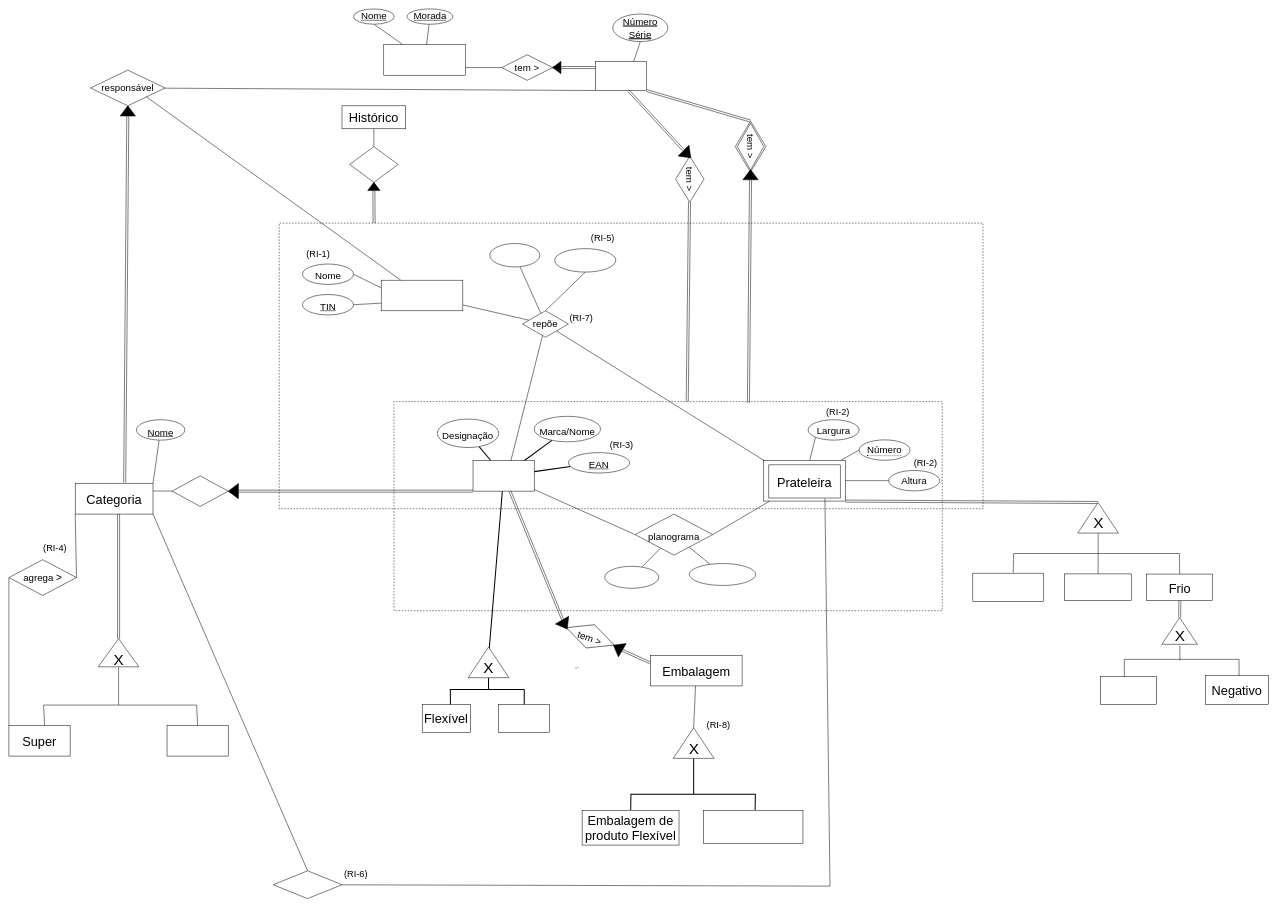
Image size: 1278x908. Some labels were removed from this diagram. The centre of each missing label's shape, as x and y in pixels:
"< possui" goes at pixel 200 490.
"Ambiente" goes at pixel 1007 587.
"Data" goes at pixel 514 255.
"determina >" goes at pixel 307 884.
"Embalagem de produto Rígido" goes at pixel 753 826.
"guarda >" goes at pixel 373 164.
"IVM" goes at pixel 620 76.
"max unidades" goes at pixel 722 574.
"Nº frentes" goes at pixel 631 577.
"Nº unidades" goes at pixel 585 260.
"Ponto de retalho" goes at pixel 424 59.
"Positivo" goes at pixel 1128 690.
"Produto" goes at pixel 503 475.
"Quente" goes at pixel 1098 587.
"Retalhista" goes at pixel 422 295.
"Rígido" goes at pixel 524 718.
"Simples" goes at pixel 197 740.
